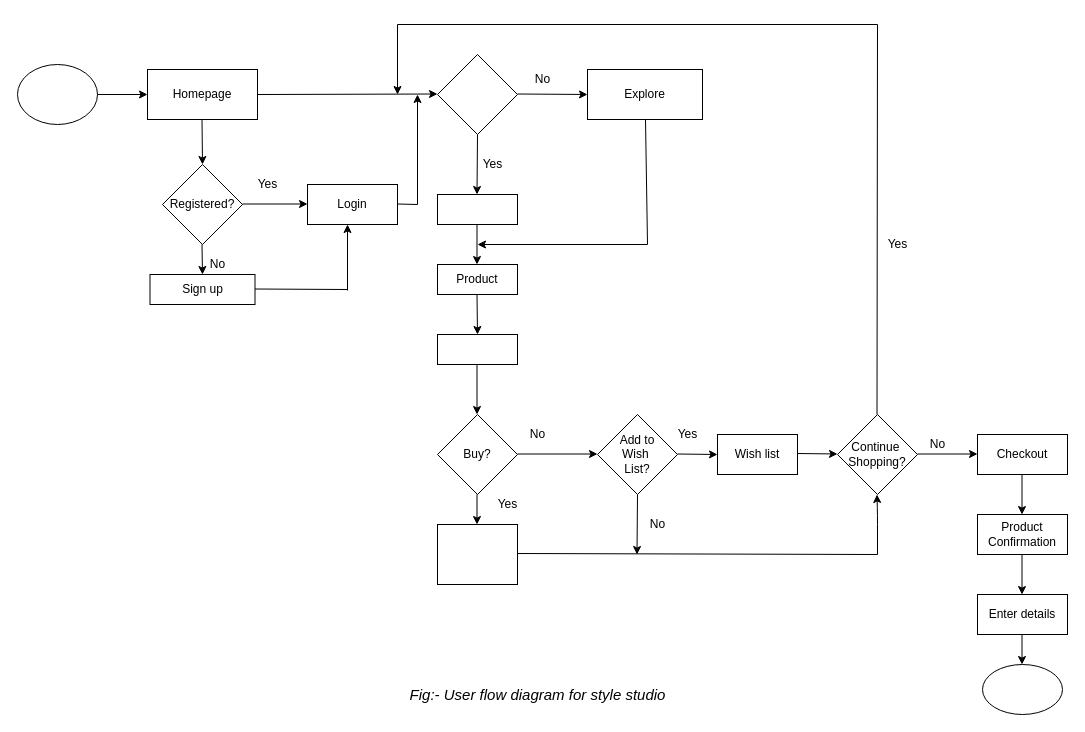
This 1085x732 diagram has some shape labels left out. The box of each missing label's shape, as (x1, y1, x2, y2) in pixels:
Add to cart: (436, 524, 518, 584)
End: (982, 664, 1062, 714)
Know what to buy?: (436, 54, 518, 134)
Product Details: (436, 334, 518, 364)
Search: (436, 194, 518, 224)
Start: (16, 64, 98, 124)
